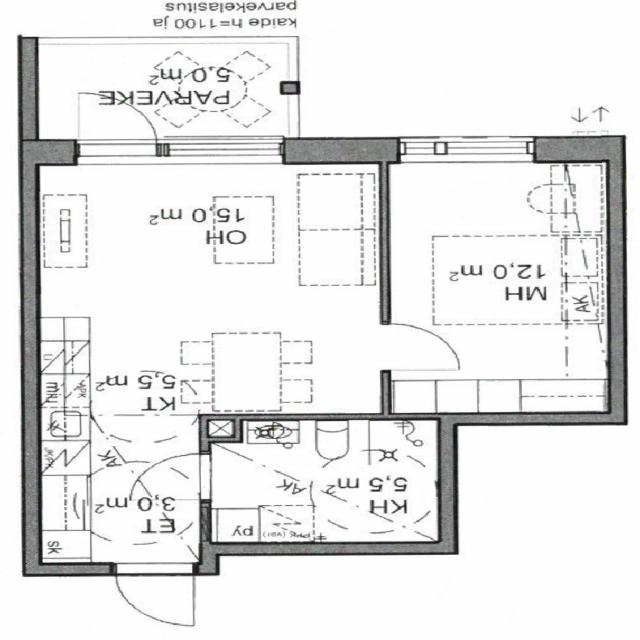door: (80, 88, 156, 162), (117, 564, 193, 624), (379, 324, 460, 370), (130, 455, 212, 499)
